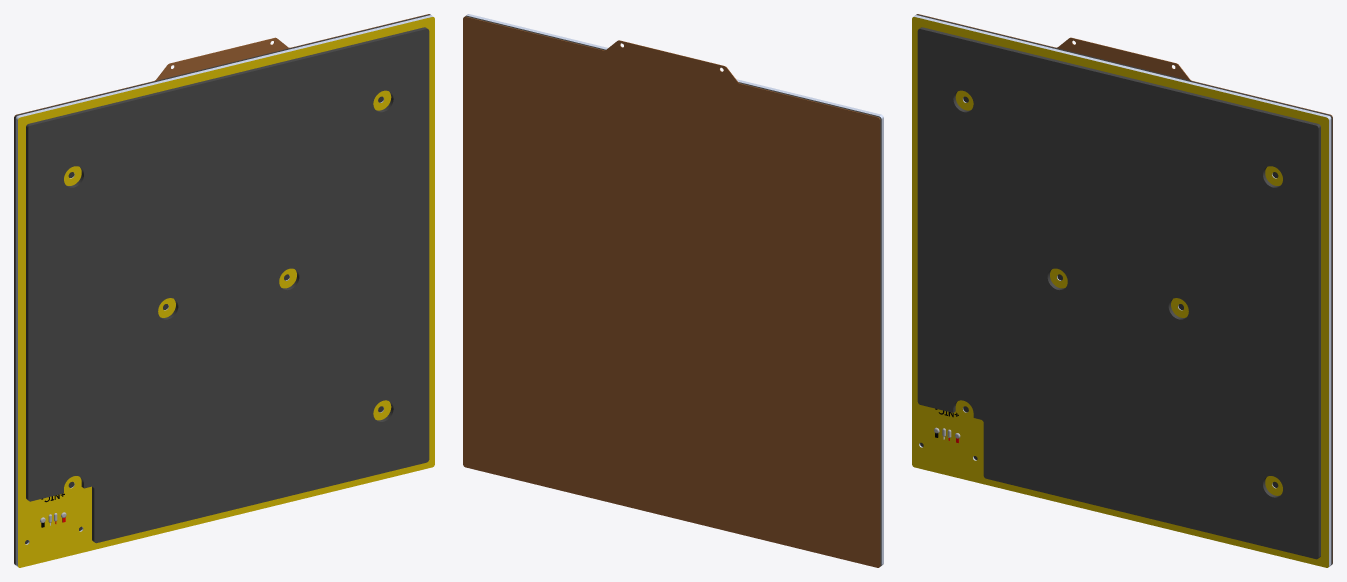
The model's file is with-textures.glb.
The picture shows the model from 3 angles, left to right: view 1: azimuth 30°, elevation 25°; view 2: azimuth 150°, elevation 25°; view 3: azimuth 330°, elevation 25°; orthographic projection.
Parts seen in each view (by area): view 1: SOLID, SOLID.002, SOLID.001; view 2: SOLID.002, SOLID, SOLID.001; view 3: SOLID, SOLID.002, SOLID.001.
Part boxes in pixels (x1,y1,x2,y2): SOLID: (15, 15, 434, 567); SOLID.002: (14, 14, 429, 563); SOLID.001: (14, 14, 430, 564); SOLID.002: (463, 16, 880, 567); SOLID: (466, 14, 883, 565); SOLID.001: (465, 15, 881, 566); SOLID: (912, 15, 1331, 567); SOLID.002: (917, 14, 1332, 563); SOLID.001: (916, 14, 1332, 564).
Bounding box in the file's own units: 0.31 × 0.3298 × 0.008.
